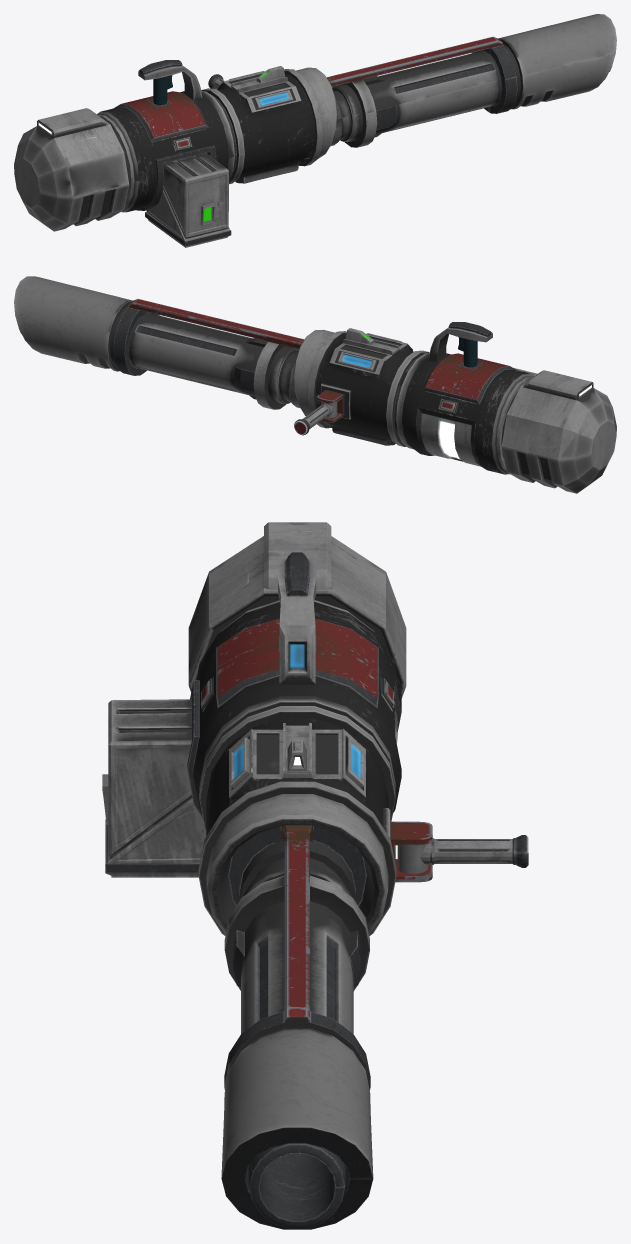
The model's file is heavy_sci-fi_laser_cannon__weapon.glb.
3 views of the same model, one above another, from view 1: azimuth 30°, elevation 25°; view 2: azimuth 150°, elevation 25°; view 3: azimuth 270°, elevation 25° (orthographic). The views are drawn at different scales.
Visible parts, largest first — view 1: gun body002; view 2: gun body002; view 3: gun body002.
Part boxes in pixels (bbox=[...]): gun body002: bbox=[14, 14, 616, 247]; gun body002: bbox=[14, 276, 616, 493]; gun body002: bbox=[102, 522, 528, 1229].
Size of the model in its own units: 2.38 by 0.5703 by 0.7575.
1 material, 1 textured.
